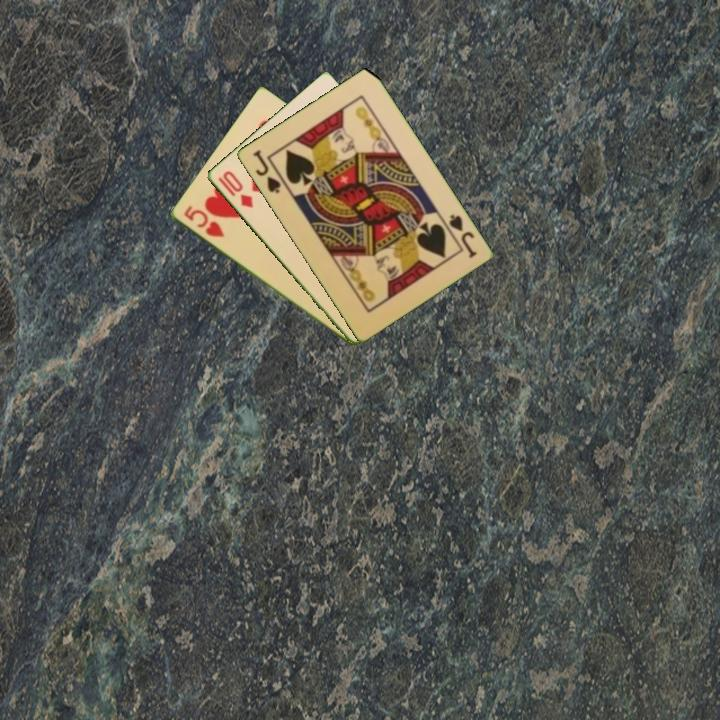10d: (214, 167, 256, 211)
5h: (180, 202, 227, 240)
Js: (249, 146, 283, 197), (445, 211, 479, 261)
